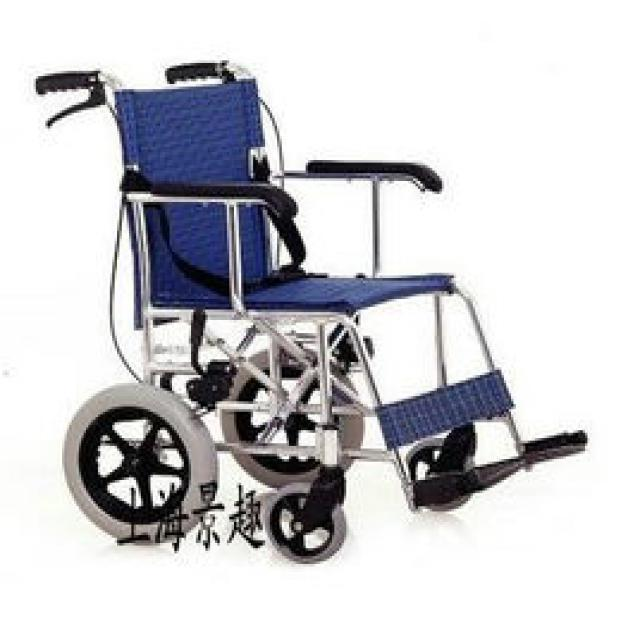wheelchair: (19, 52, 592, 574)
